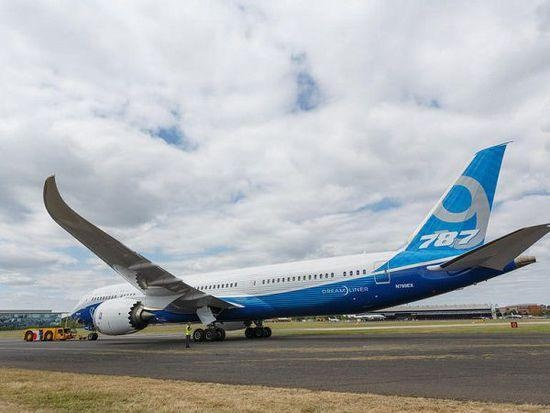airplane: (43, 140, 543, 340)
